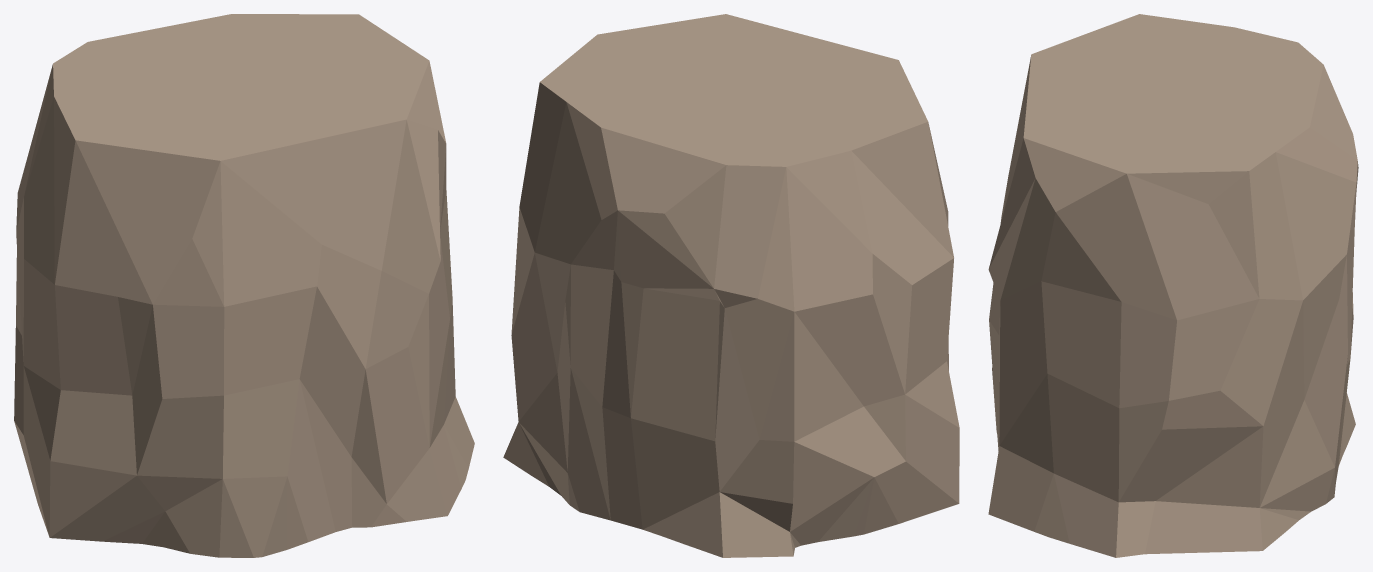
File: Clife.fbx
The picture shows the model from 3 angles, left to right: view 1: azimuth 30°, elevation 25°; view 2: azimuth 150°, elevation 25°; view 3: azimuth 270°, elevation 25°; orthographic projection. The views are drawn at different scales.
Parts seen in each view (by area): view 1: polySurface1; view 2: polySurface1; view 3: polySurface1.
Boxes of the visible parts, x1,y1,x2,y2 form: polySurface1: (14, 14, 474, 557); polySurface1: (503, 14, 959, 557); polySurface1: (988, 14, 1358, 557).
Bounding box in the file's own units: 34.32 × 30.63 × 28.08.
